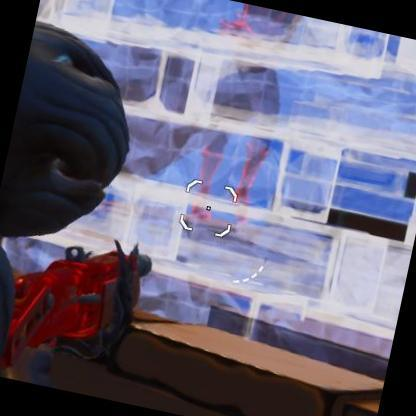person: (187, 0, 307, 220)
